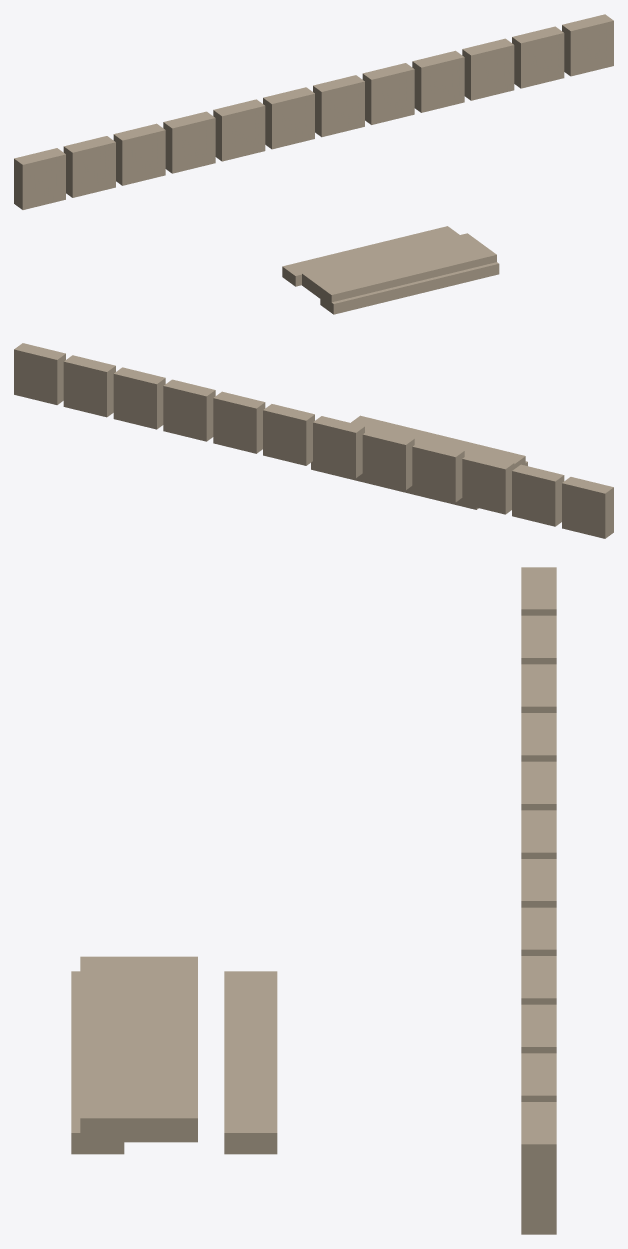
The model's file is SM_Int_Generationship_Hab_Mess.fbx.
3 renders of one model, top to bottom at view 1: azimuth 30°, elevation 25°; view 2: azimuth 150°, elevation 25°; view 3: azimuth 270°, elevation 25°, orthographic. The views are drawn at different scales.
Visible parts, largest first — view 1: SM_Int_Generationship_Hab_Mess; view 2: SM_Int_Generationship_Hab_Mess; view 3: SM_Int_Generationship_Hab_Mess.
Part boxes in pixels (x1=…): SM_Int_Generationship_Hab_Mess: x1=14, y1=14, x2=613, y2=314; SM_Int_Generationship_Hab_Mess: x1=14, y1=343, x2=613, y2=538; SM_Int_Generationship_Hab_Mess: x1=71, y1=567, x2=556, y2=1234.
Bounding box in the file's own units: 1068 × 380 × 206.
